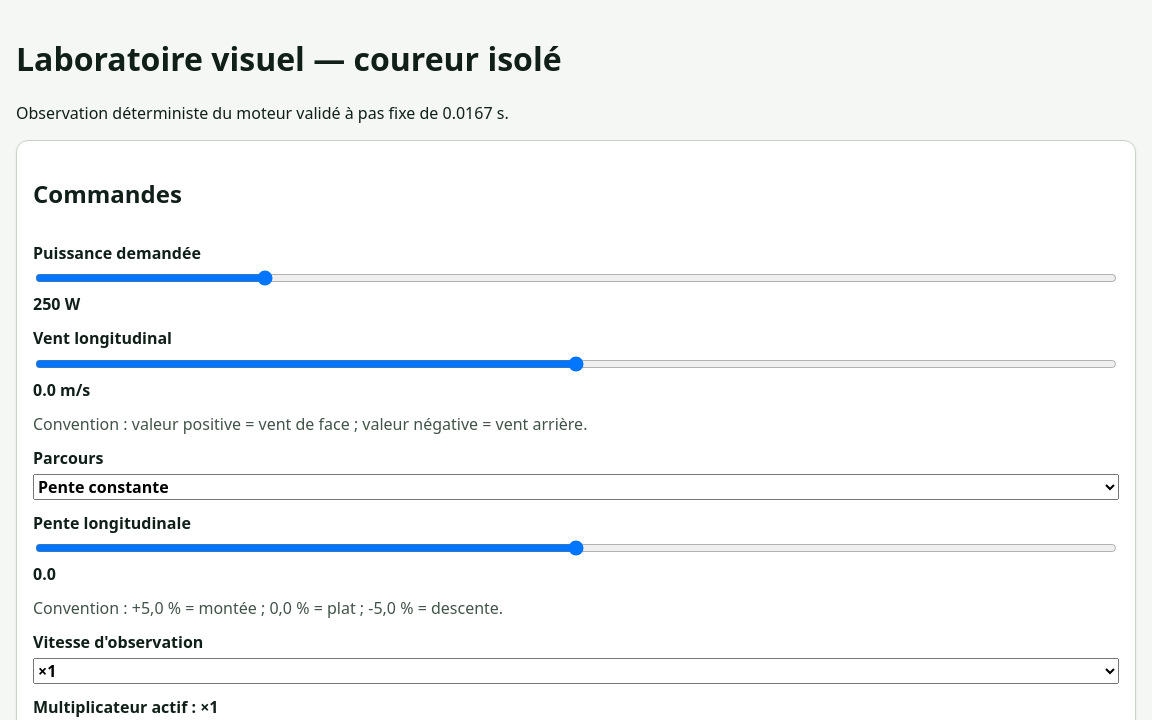
App › changes wind
Set the slider labelled "Vent longitudinal 0.0 m/s" to "3": [736, 364] box x1=35 y1=356 x2=1117 y2=372
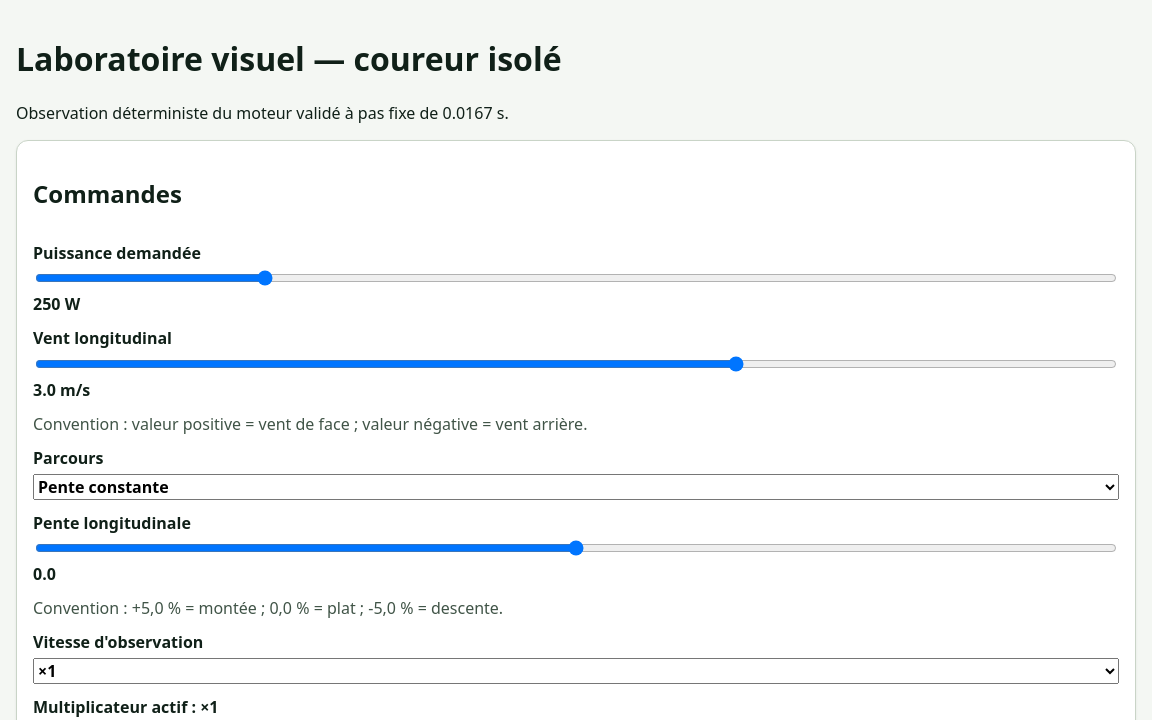
Expected: the text "3.0 m/s" is shown, x1=33 y1=379 x2=90 y2=401
